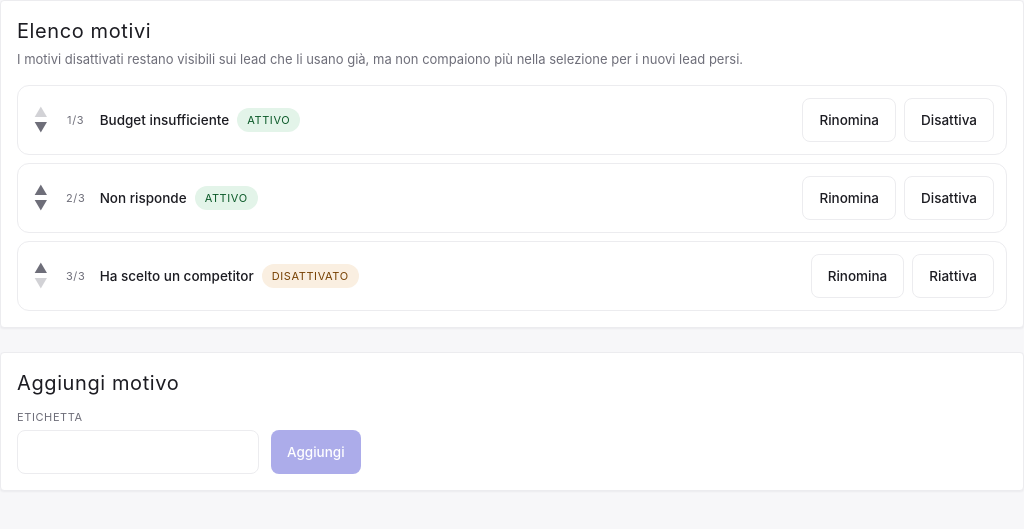
Test: LossReasonsPanel › renames a reason via the inline edit form
Click the button with aria-label "Rinomina: Budget insufficiente": coordinates (849, 120) left=802, top=98, right=896, bottom=142
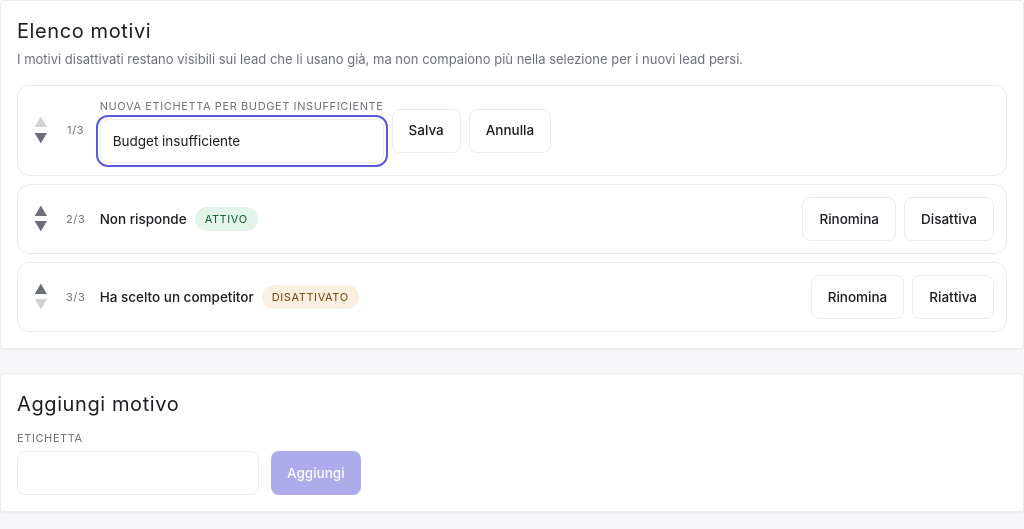
Replace the text in the field labelled "Nuova etichetta per Budget insufficiente" with "Budget non sufficiente": coordinates (242, 141) left=100, top=119, right=384, bottom=163
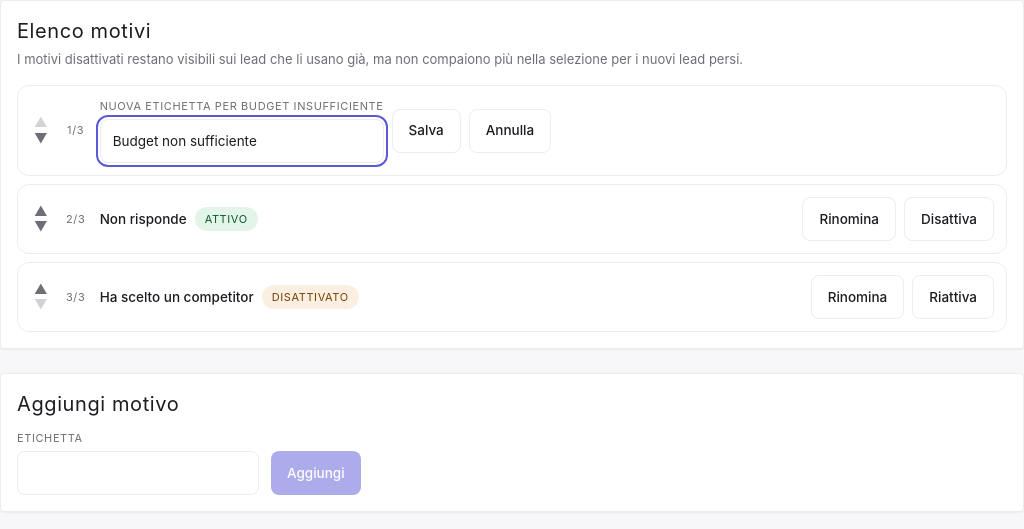
Click the button "Salva": coordinates (426, 131) left=392, top=109, right=461, bottom=153
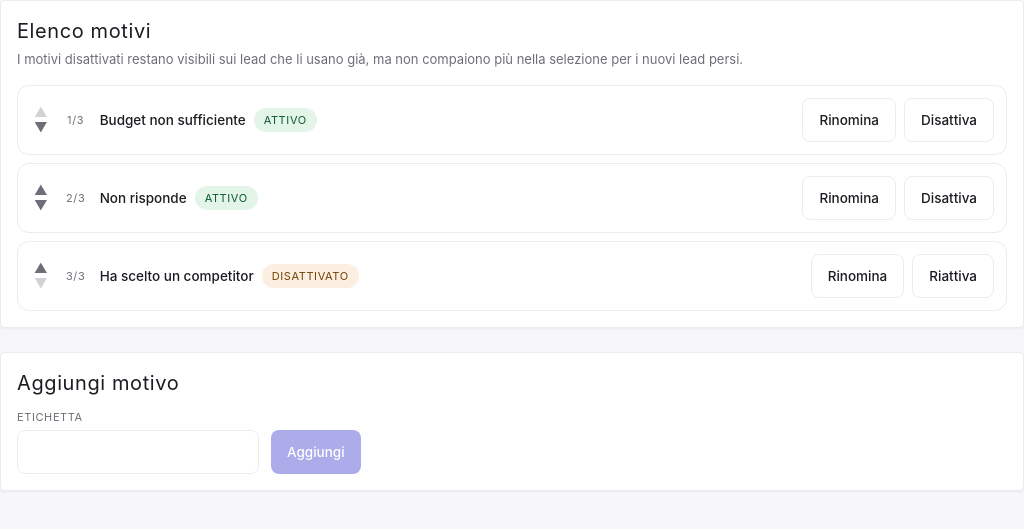
Result: the text "Budget non sufficiente" is shown at left=100, top=110, right=246, bottom=131
